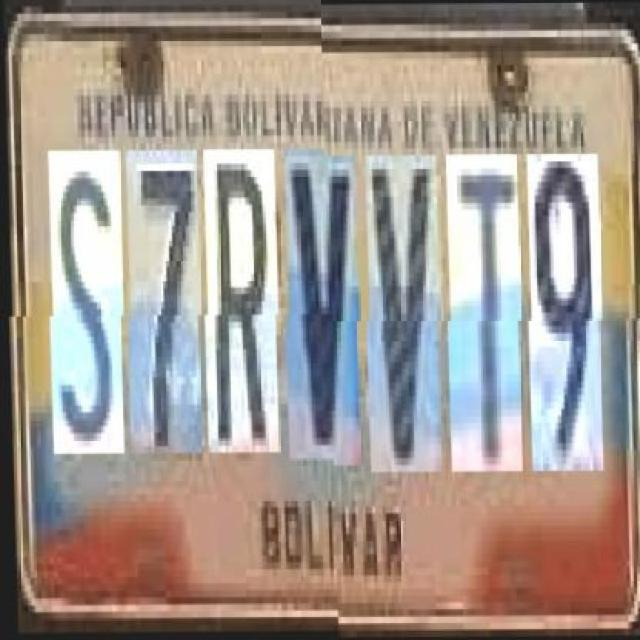7: (125, 157, 202, 460)
9: (525, 156, 604, 472)
r: (202, 156, 280, 459)
s: (47, 157, 125, 460)
t: (445, 156, 523, 472)
v: (365, 156, 443, 472), (283, 156, 362, 467)
